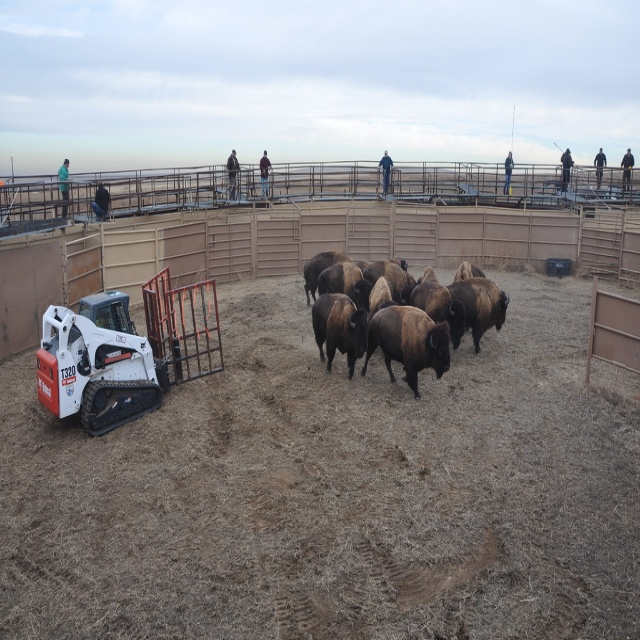Bull: (303, 250, 510, 400)
